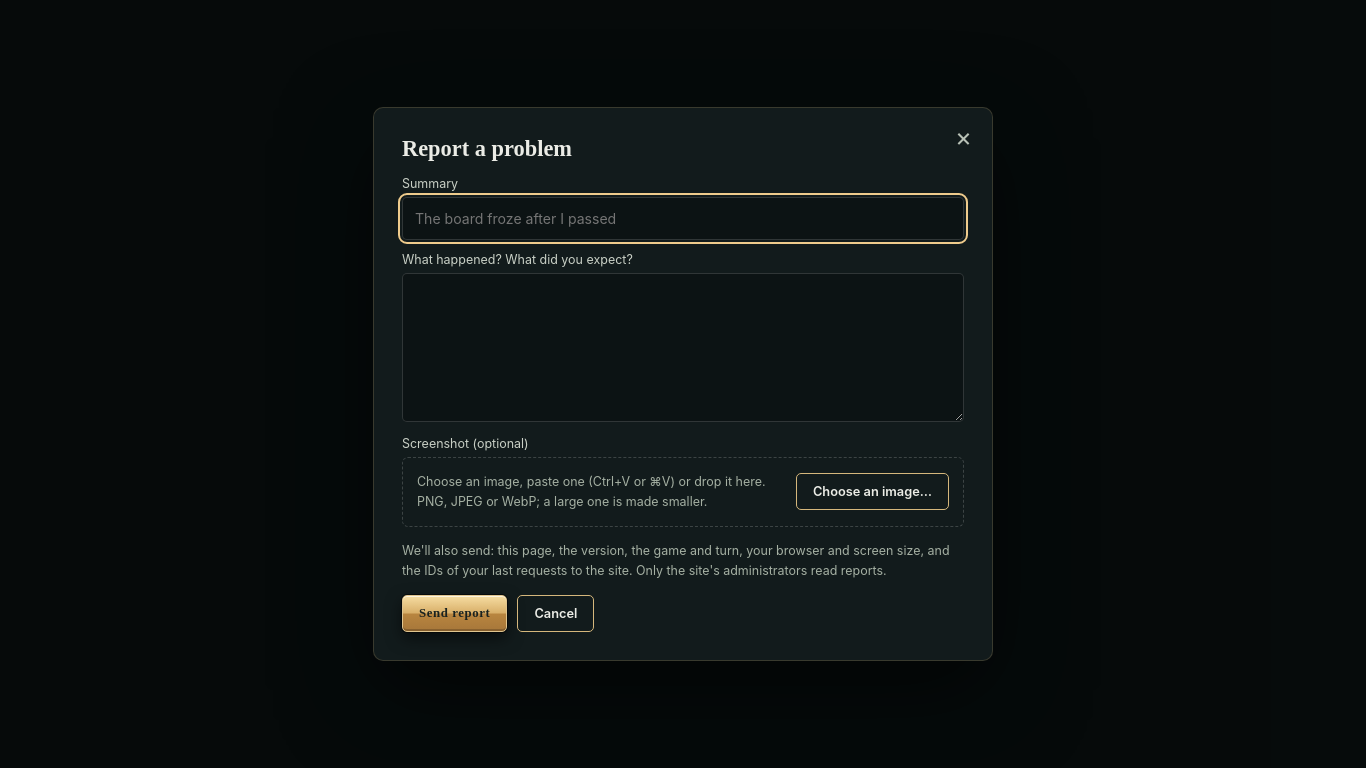
Test: Report a problem › names the game and its turn when sent from the table
This screenshot has width=1366, height=768.
Expected: the dialog shows "We'll also send: this page, the version, the game and turn, your browser and screen size", x1=373 y1=107 x2=993 y2=661
Type "The board froze" into the field labelled "Summary" at (683, 219), box x1=402 y1=197 x2=964 y2=240
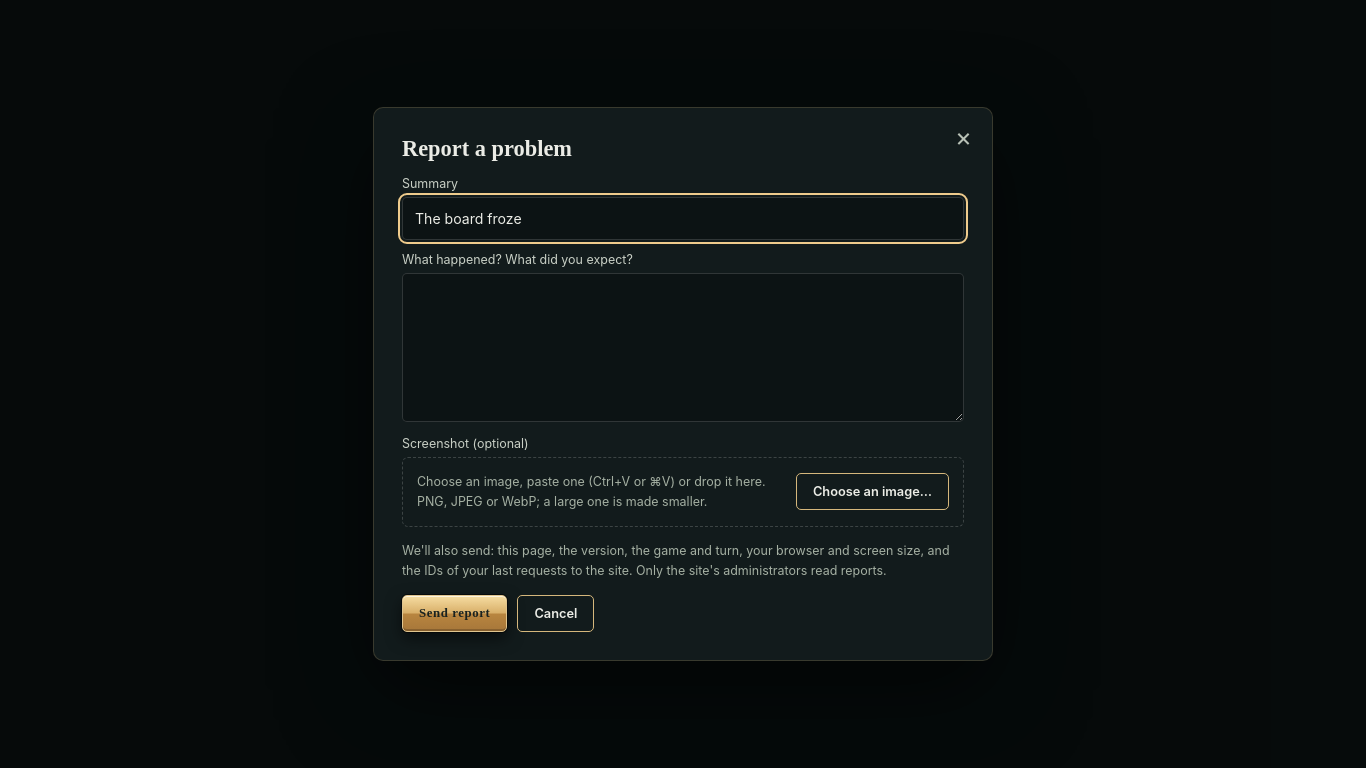
Type "I passed." into the text box labelled "What happened? What did you expect?" at (683, 348), box x1=402 y1=273 x2=964 y2=422
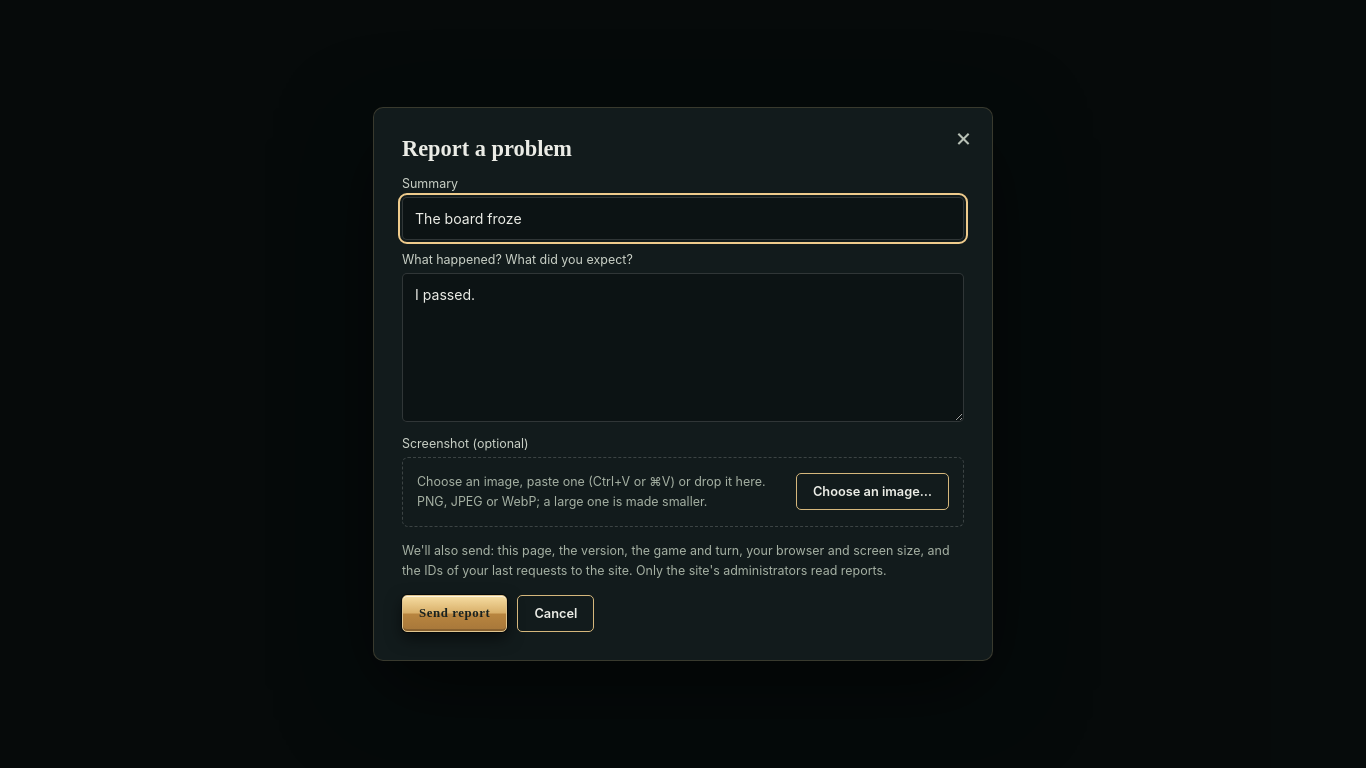
Click the button "Send report" at (455, 613), box x1=402 y1=595 x2=507 y2=632
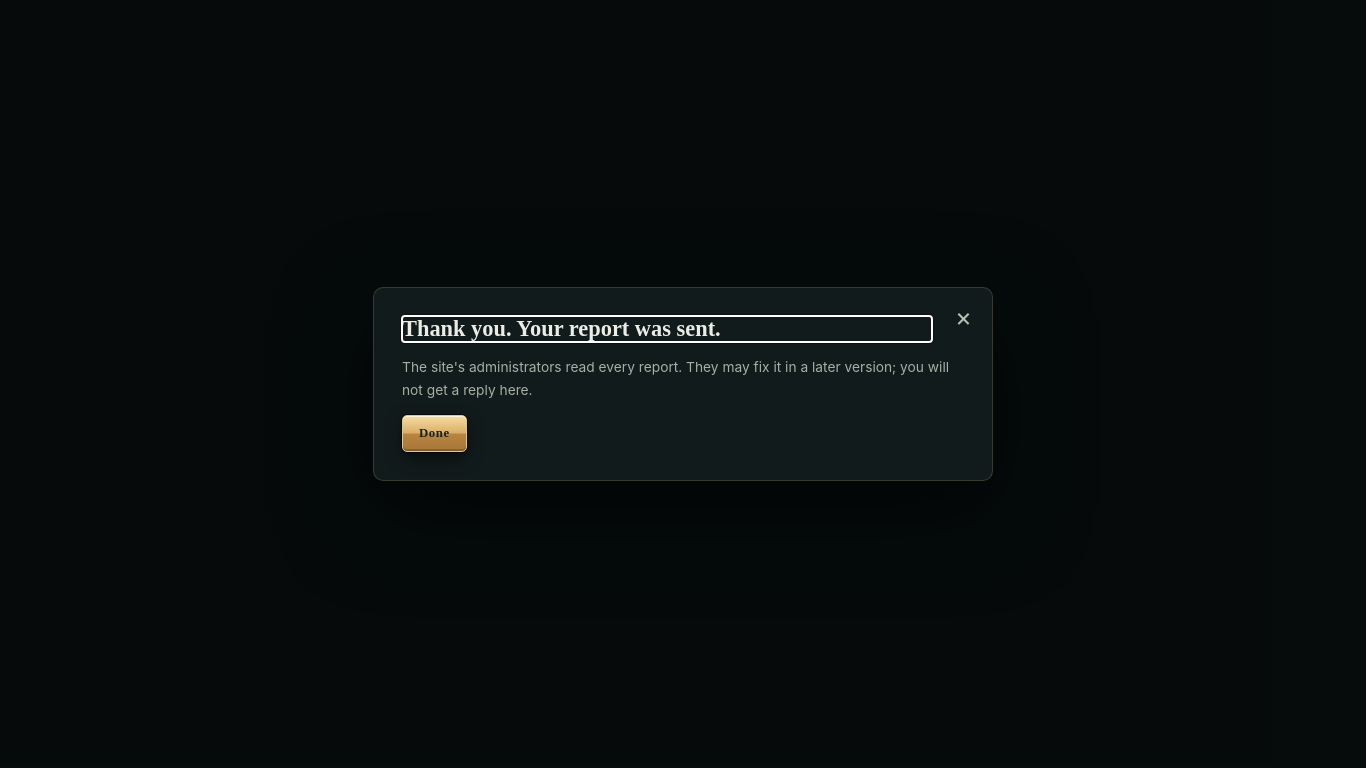
Now the heading "Thank you. Your report was sent." is shown, box x1=402 y1=316 x2=721 y2=342
